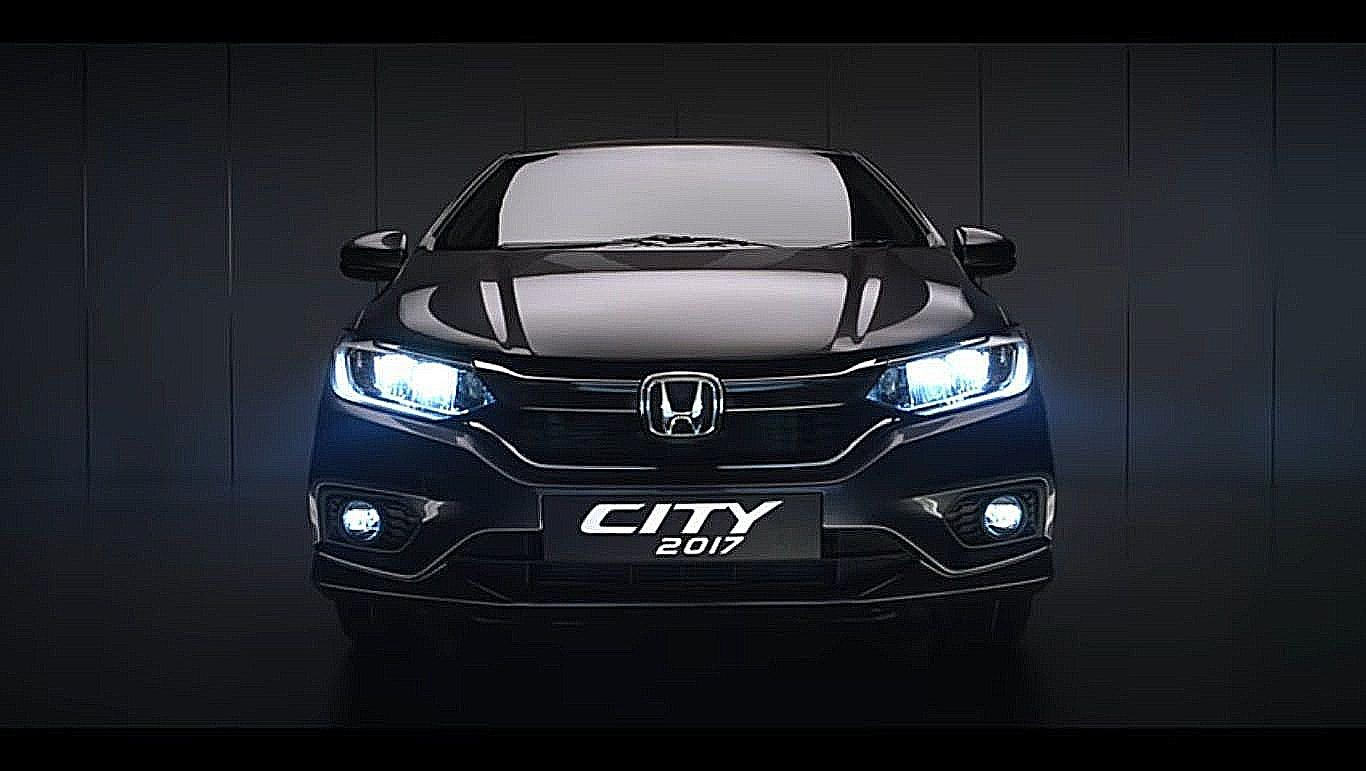Car hood: (354, 240, 1020, 378)
Front bumper: (299, 390, 1064, 615)
Headlight - -L-: (866, 333, 1035, 420)
Headlight - -R-: (331, 340, 499, 433)
Side mirror - -L-: (943, 225, 1022, 286)
Side mirror - -R-: (336, 229, 412, 288)
